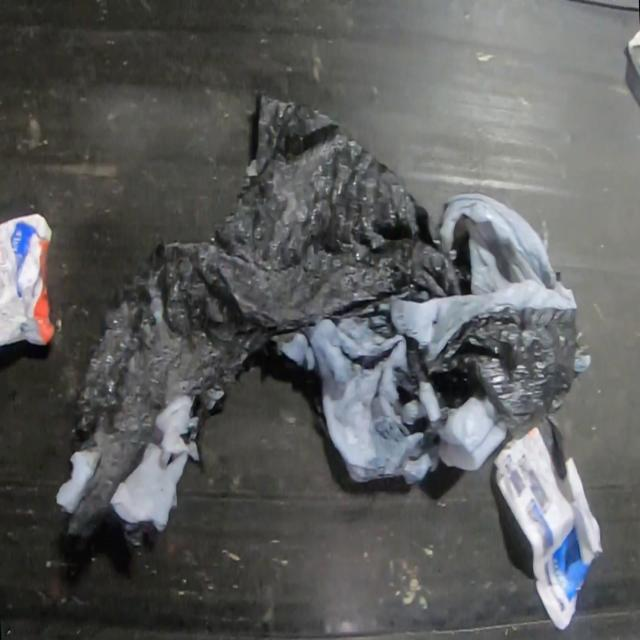soft_plastic: (57, 92, 591, 537)
